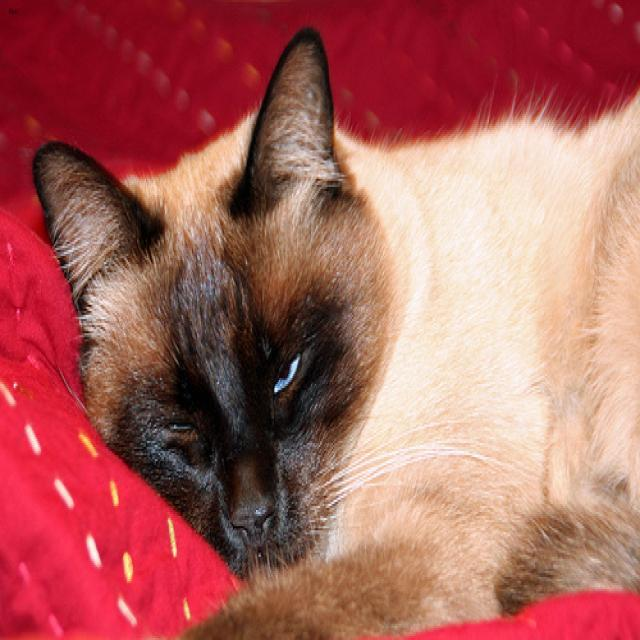Siamese: (32, 18, 394, 586)
